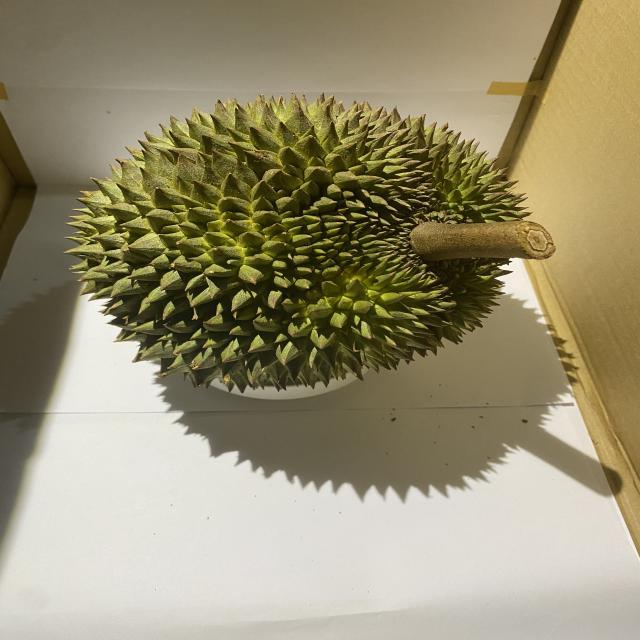immature: (55, 89, 533, 391)
